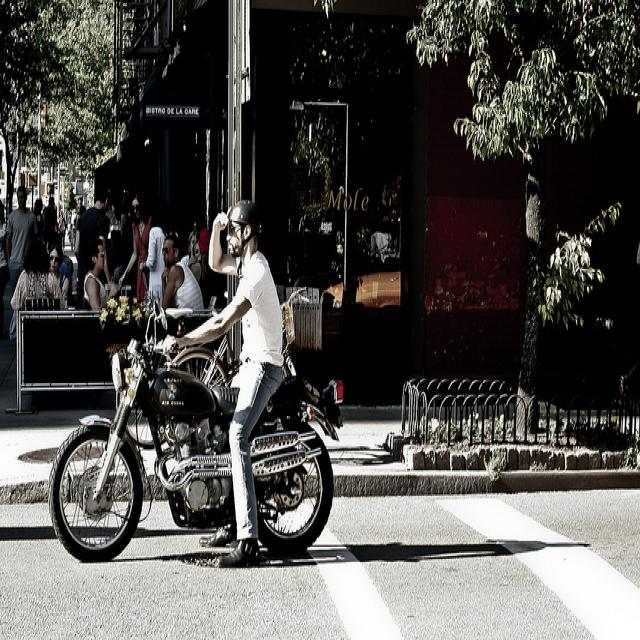motor: (49, 286, 345, 562)
